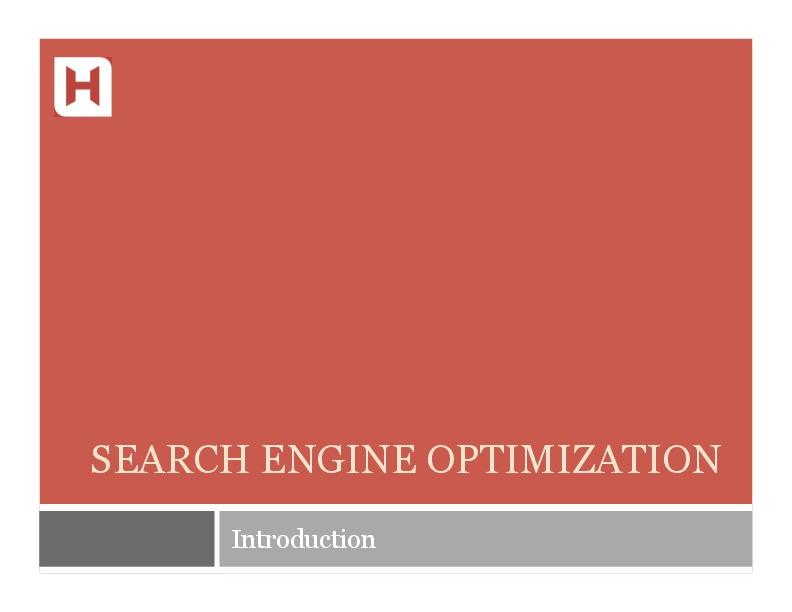subtitle: (228, 516, 395, 565)
title: (87, 440, 737, 490)
